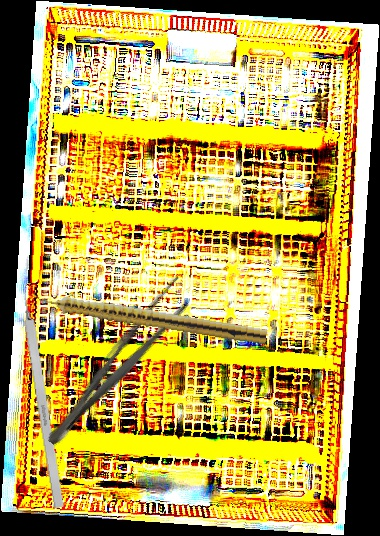Dressing Forceps: (38, 272, 199, 454)
Handpiece: (30, 287, 269, 346)
Hook Surgical: (16, 274, 65, 509)
